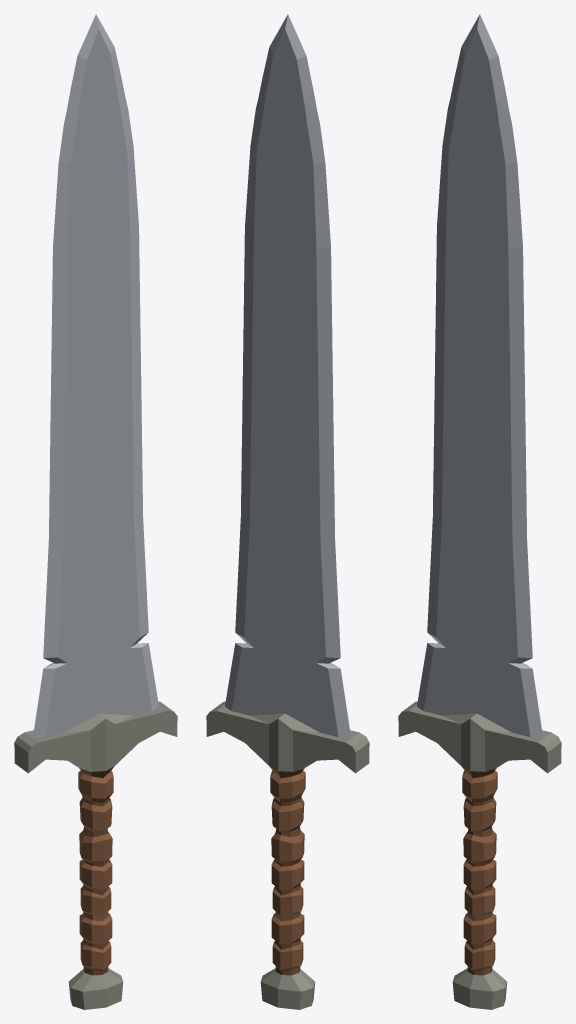
The model's file is sword_big.glb.
3 renders of one model, left to right at view 1: azimuth 30°, elevation 25°; view 2: azimuth 150°, elevation 25°; view 3: azimuth 330°, elevation 25°, orthographic.
Visible parts, largest first — view 1: Sword_big; view 2: Sword_big; view 3: Sword_big.
Part boxes in pixels (x1,y1,x2,y2): Sword_big: (14, 14, 177, 1009); Sword_big: (206, 14, 369, 1009); Sword_big: (398, 14, 561, 1009).
Size of the model in its own units: 1.02 by 6.44 by 0.2386.
